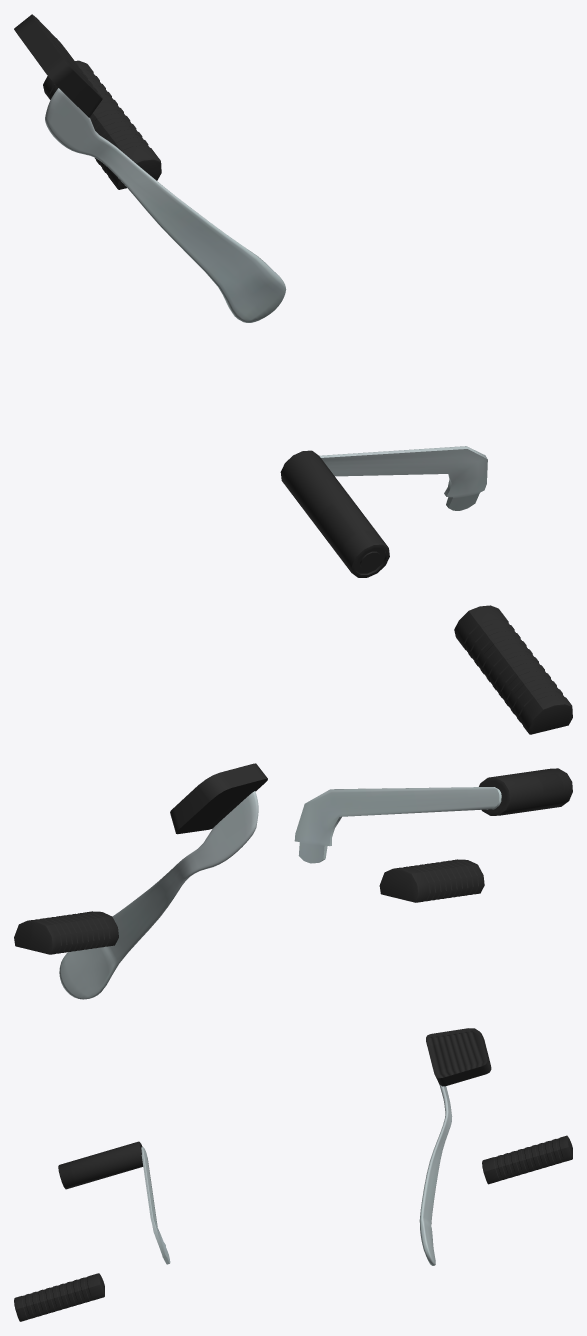
Rendered from pedane_avanzate.glb.
3 renders of one model, top to bottom at view 1: azimuth 30°, elevation 25°; view 2: azimuth 150°, elevation 25°; view 3: azimuth 270°, elevation 25°, orthographic. The views are drawn at different scales.
Parts seen in each view (by area): view 1: ricambio; view 2: ricambio; view 3: ricambio.
Part boxes in pixels (x1=…): ricambio: x1=14, y1=14, x2=572, y2=734; ricambio: x1=14, y1=763, x2=572, y2=999; ricambio: x1=14, y1=1028, x2=572, y2=1321.
Bounding box in the file's own units: 0.2175 × 0.3652 × 0.7238.
2 materials, 2 textured.
